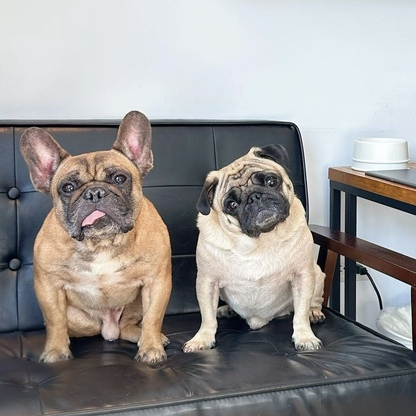Pug: (180, 137, 332, 359)
bulldog: (13, 106, 181, 384)
